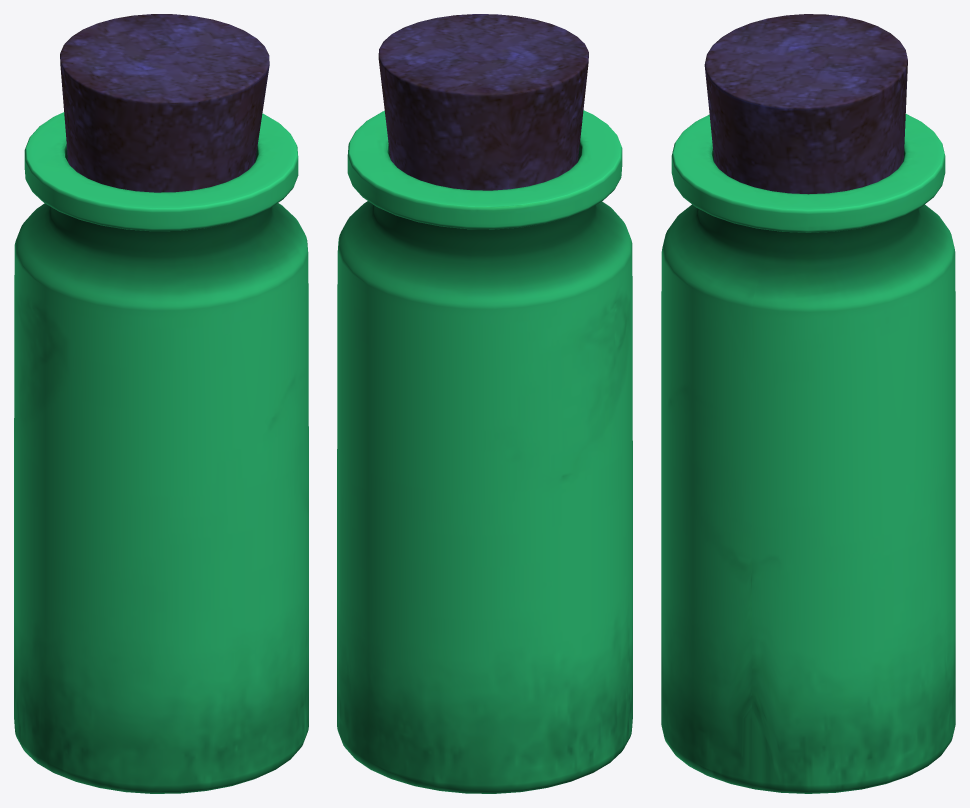
The model's file is SR-container_vial_glass_a01.glb.
3 views of the same model, side by side, from view 1: azimuth 30°, elevation 25°; view 2: azimuth 150°, elevation 25°; view 3: azimuth 270°, elevation 25° (orthographic).
Parts seen in each view (by area): view 1: body_01_mesh_00, cork_01_mesh_00; view 2: body_01_mesh_00, cork_01_mesh_00; view 3: body_01_mesh_00, cork_01_mesh_00.
Part boxes in pixels (box(x1,y1,x2,y2)): body_01_mesh_00: box(14, 112, 308, 793); cork_01_mesh_00: box(60, 14, 269, 192); body_01_mesh_00: box(337, 110, 632, 793); cork_01_mesh_00: box(378, 14, 588, 190); body_01_mesh_00: box(661, 114, 955, 793); cork_01_mesh_00: box(704, 14, 907, 194).
Bounding box in the file's own units: 0.0326 × 0.0829 × 0.0326.
Materials: 2 (2 with a texture image).
